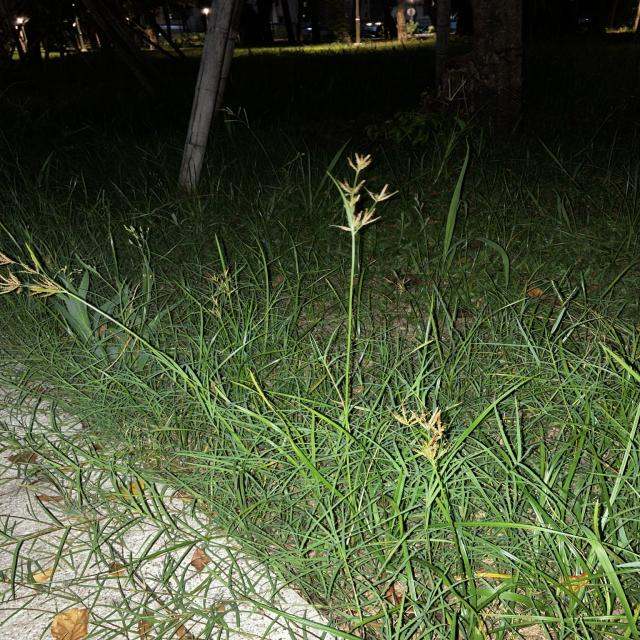cyperus: (321, 150, 397, 236), (382, 396, 454, 464), (0, 241, 74, 302), (202, 268, 243, 320), (217, 104, 253, 126)
